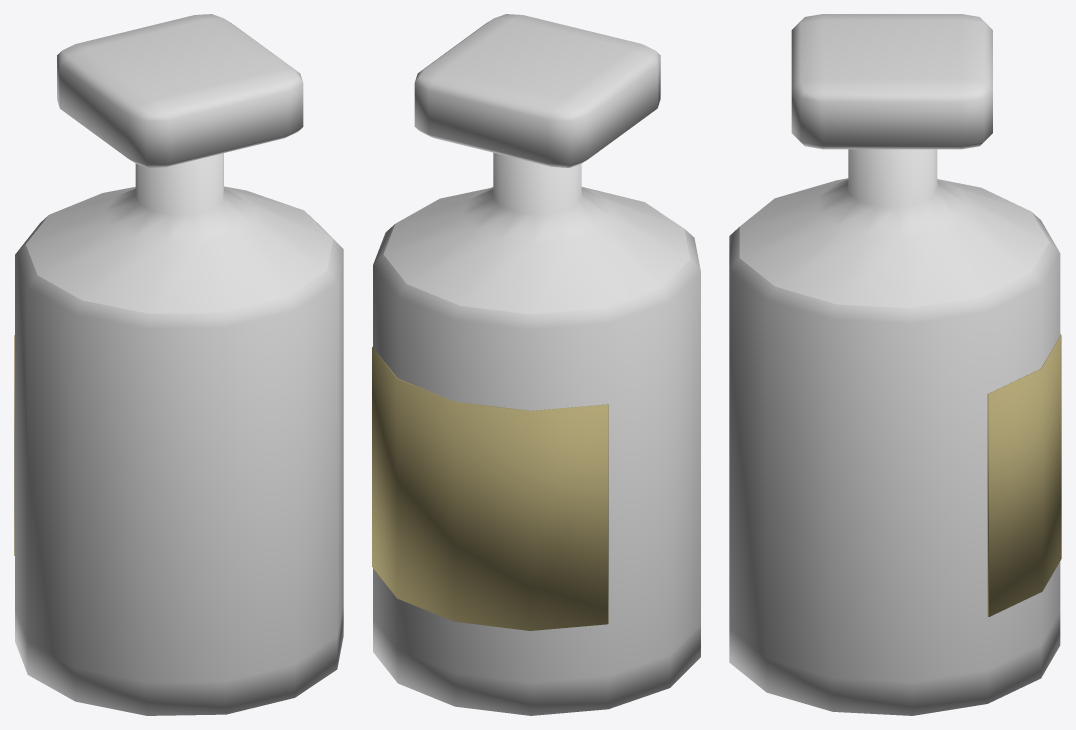
File: hibiki.fbx
3 renders of one model, left to right at view 1: azimuth 30°, elevation 25°; view 2: azimuth 150°, elevation 25°; view 3: azimuth 270°, elevation 25°, orthographic.
Visible parts, largest first — view 1: Verre_Orange, Verre, Bouchon Verre; view 2: Verre_Orange, Etiquette, Verre, Bouchon Verre; view 3: Verre_Orange, Verre, Bouchon Verre, Etiquette.
Part boxes in pixels (x1,y1,x2,y2): Verre_Orange: [15, 215, 343, 682]; Verre: [15, 153, 343, 715]; Bouchon Verre: [57, 14, 303, 168]; Verre_Orange: [373, 224, 700, 682]; Etiquette: [372, 347, 608, 630]; Verre: [373, 152, 700, 715]; Bouchon Verre: [414, 14, 660, 167]; Verre_Orange: [729, 212, 1060, 681]; Verre: [729, 149, 1060, 715]; Bouchon Verre: [791, 14, 992, 149]; Etiquette: [987, 334, 1061, 616].
Size of the model in its own units: 199 by 391 by 198.
